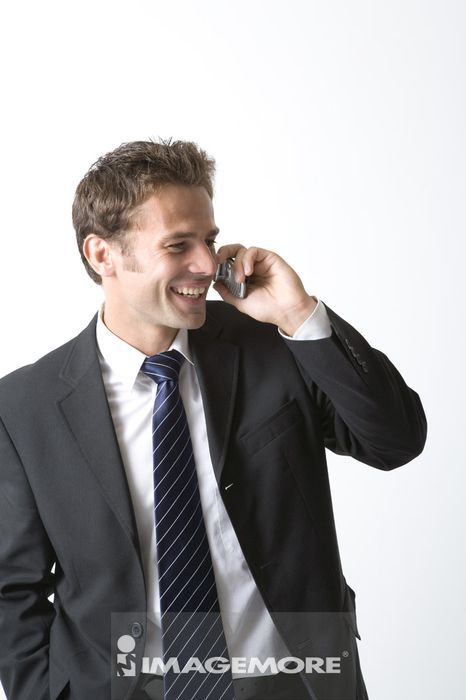talk: (150, 217, 300, 342)
